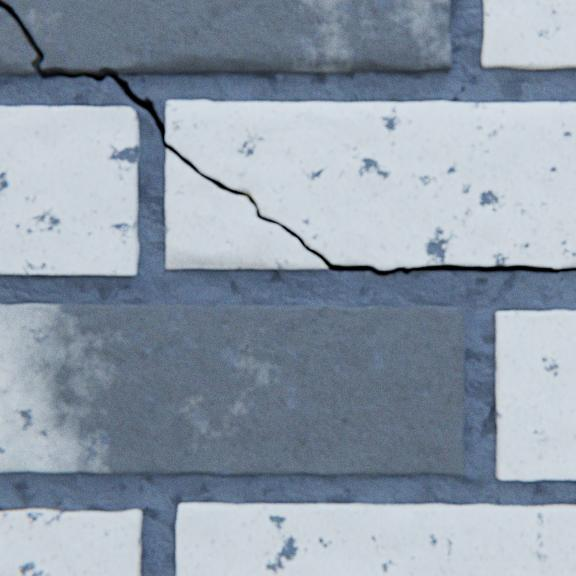brick: (0, 303, 465, 474), (177, 502, 575, 575), (0, 107, 139, 275), (495, 310, 575, 479), (0, 508, 142, 575), (481, 0, 575, 70)
broken_brick: (167, 101, 575, 268), (2, 0, 451, 74), (166, 150, 326, 268), (0, 8, 39, 74)
crack: (0, 0, 575, 276)
